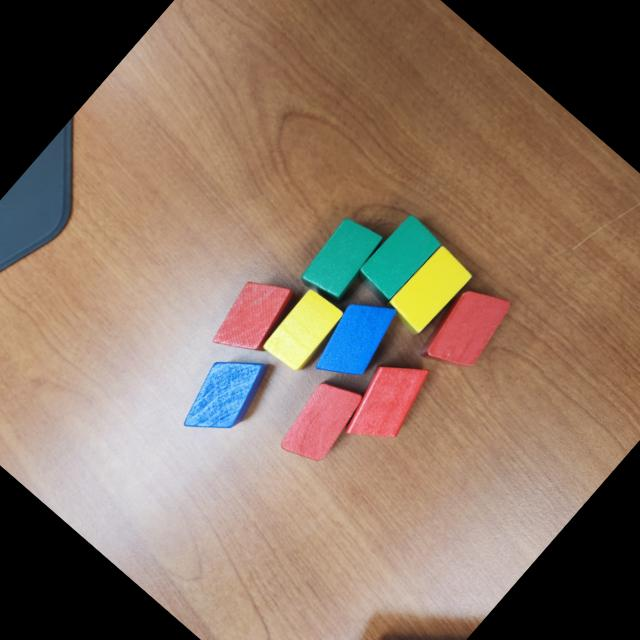blue: (169, 334, 284, 454), (302, 284, 409, 396)
green: (292, 208, 390, 309), (356, 210, 444, 302)
red: (330, 344, 443, 461), (408, 272, 520, 389), (202, 263, 308, 373), (270, 368, 374, 475)
yellow: (259, 284, 351, 380), (384, 244, 474, 338)
